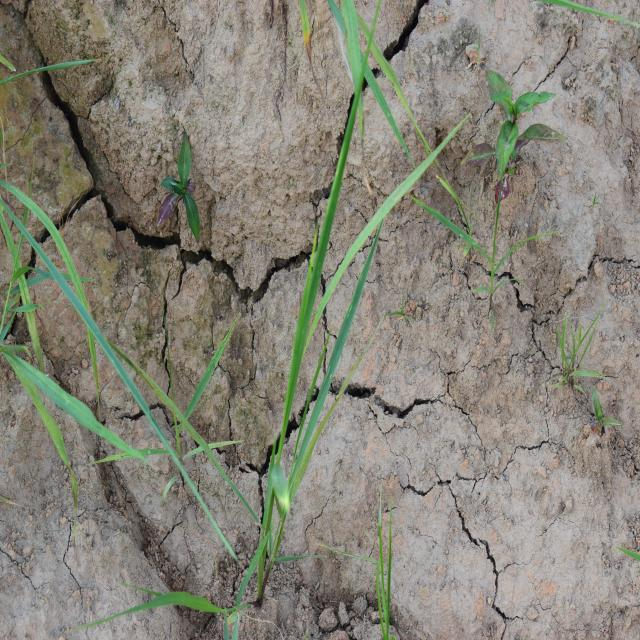green_foxtail: (248, 86, 411, 550)
